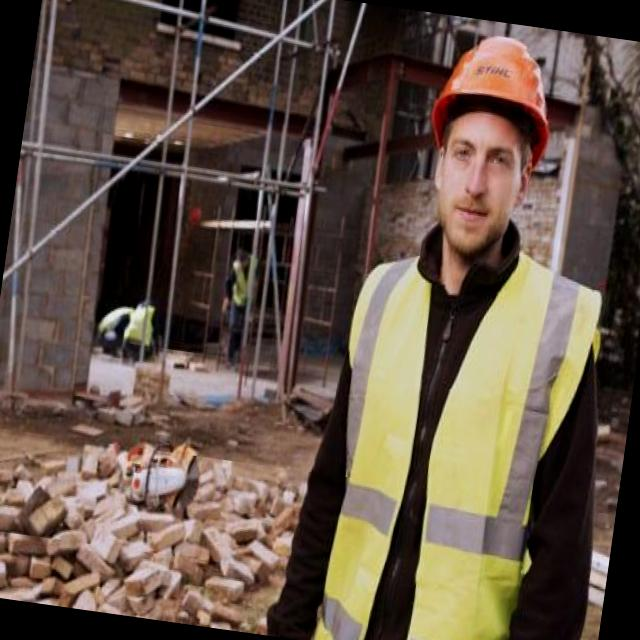helmet: (426, 26, 564, 150)
vest: (302, 218, 625, 640)
